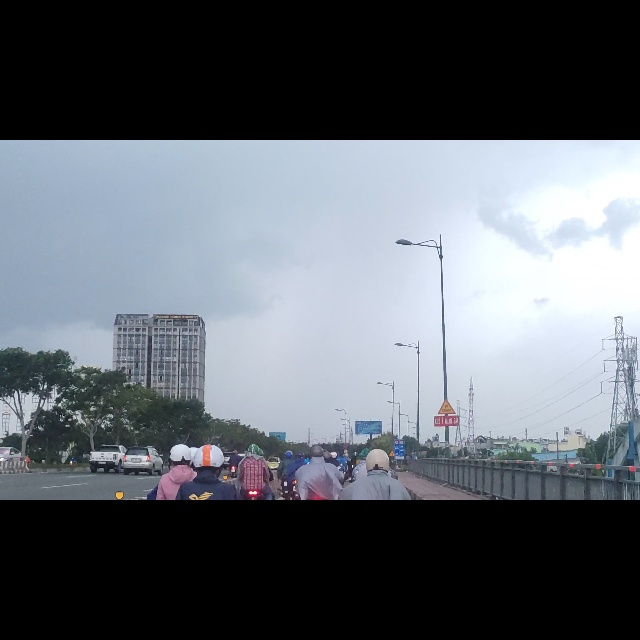bien_chi_dan: (437, 457, 456, 489), (389, 552, 396, 562)
